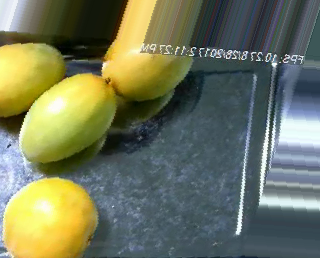Mango: (17, 74, 121, 166), (0, 176, 107, 258), (0, 39, 70, 122), (102, 50, 195, 104)
